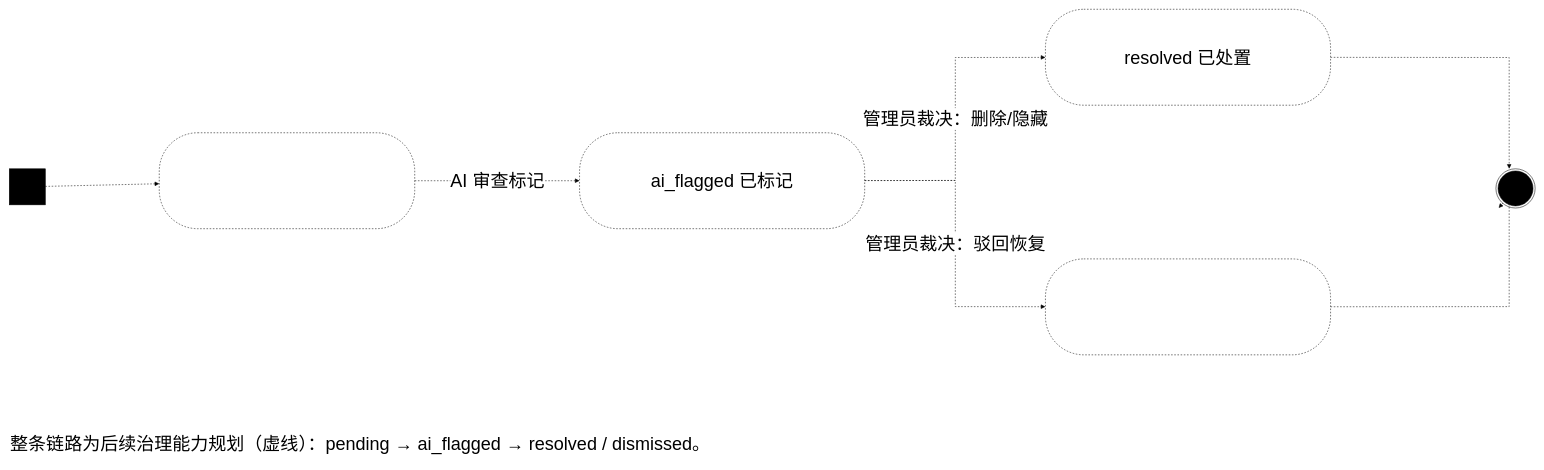
Some shapes in this 1544 by 470 pixel diagram are drawn without their labels. The shapes that lost their labels are listed below. From the top down, each one's centre as x and y in pixels, then its label:
point 287,180: pending 待处理
point 1188,306: dismissed 驳回
